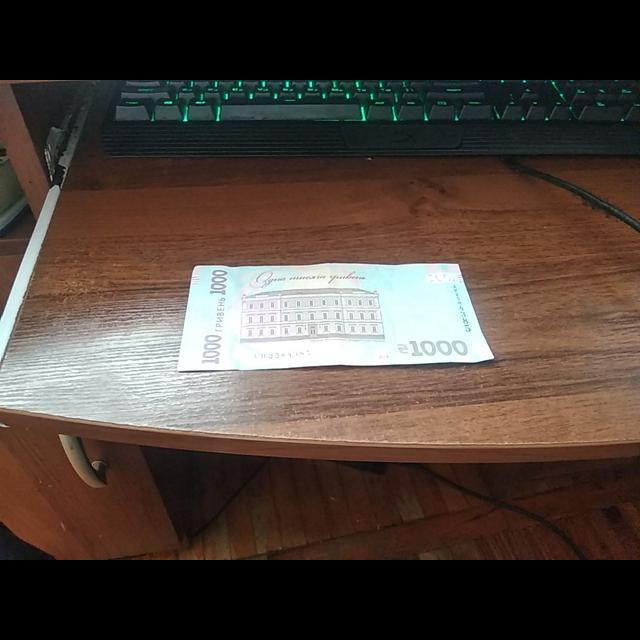1000uah: (178, 265, 493, 368)
